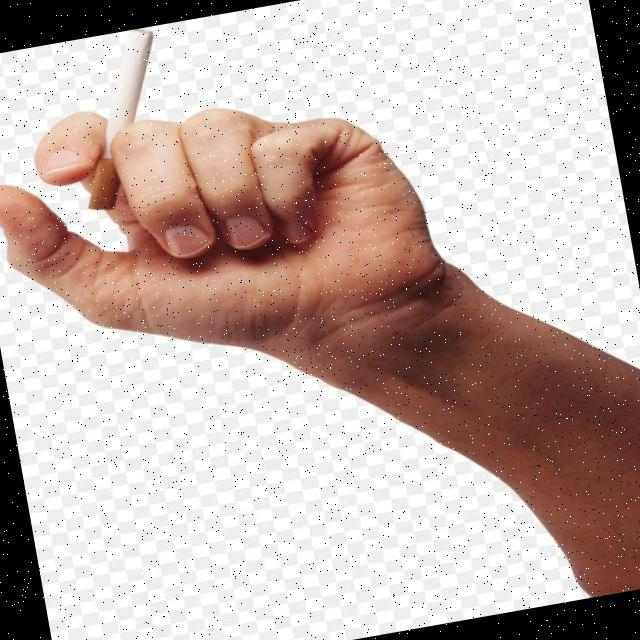cigarette: (48, 23, 192, 216)
